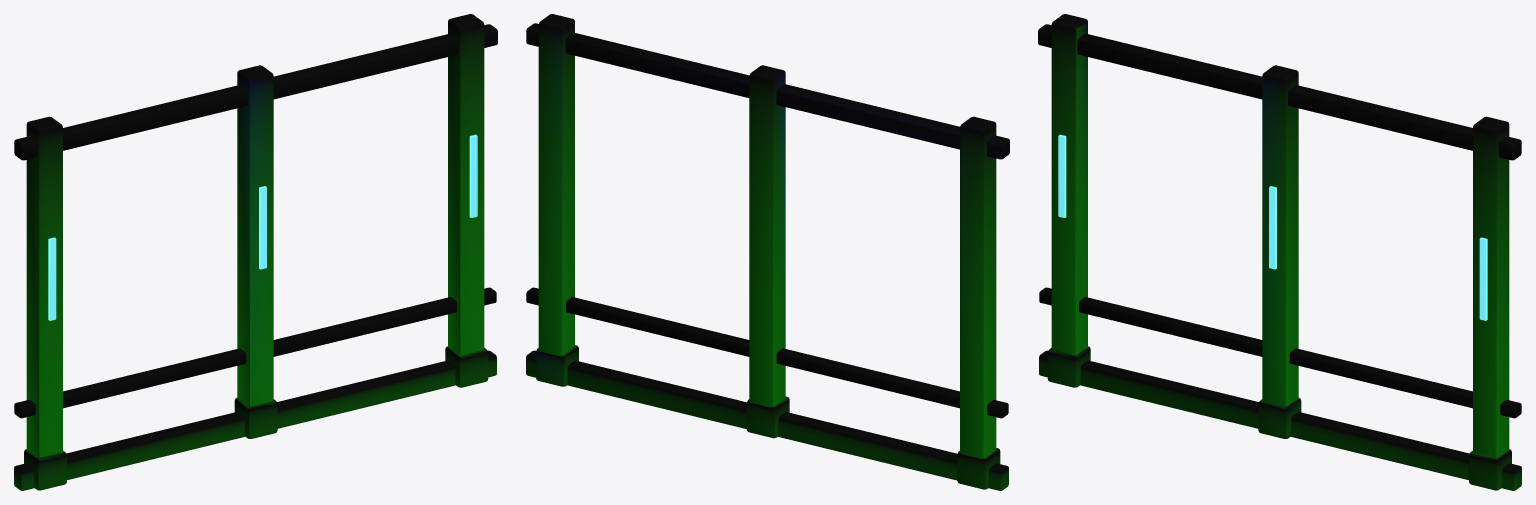
The model's file is hero_wall_pilaster.glb.
3 views of the same model, side by side, from view 1: azimuth 30°, elevation 25°; view 2: azimuth 150°, elevation 25°; view 3: azimuth 330°, elevation 25° (orthographic).
Parts seen in each view (by area): view 1: HeroWallPilaster; view 2: HeroWallPilaster; view 3: HeroWallPilaster.
Part boxes in pixels (bbox=[...]): HeroWallPilaster: bbox=[14, 14, 497, 490]; HeroWallPilaster: bbox=[526, 14, 1009, 490]; HeroWallPilaster: bbox=[1038, 14, 1521, 490].
Bounding box in the file's own units: 8.6 × 6.2 × 0.48.
